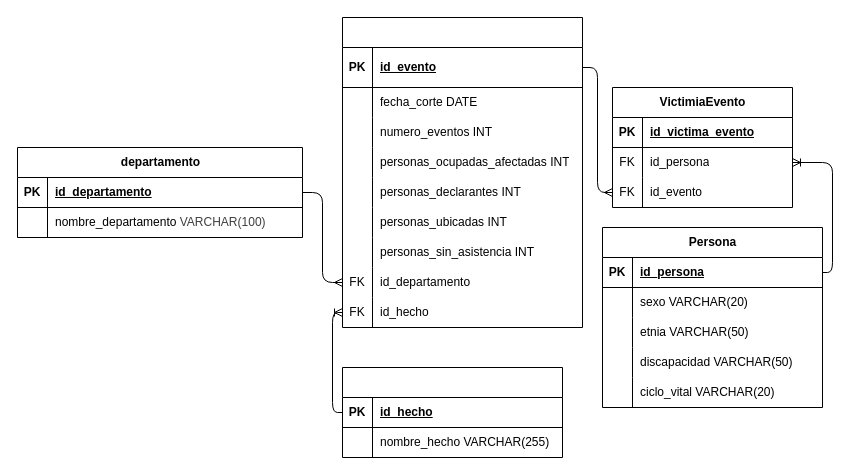
This 858x475 diagram has some shape labels left out. The shapes that lost their labels are listed below. From the top down, each one's box as (x1, y1, x2, y2) in pixels, then its label:
(342, 16, 582, 328): EventoVictimizante
(342, 366, 562, 458): HechoVictimizante
